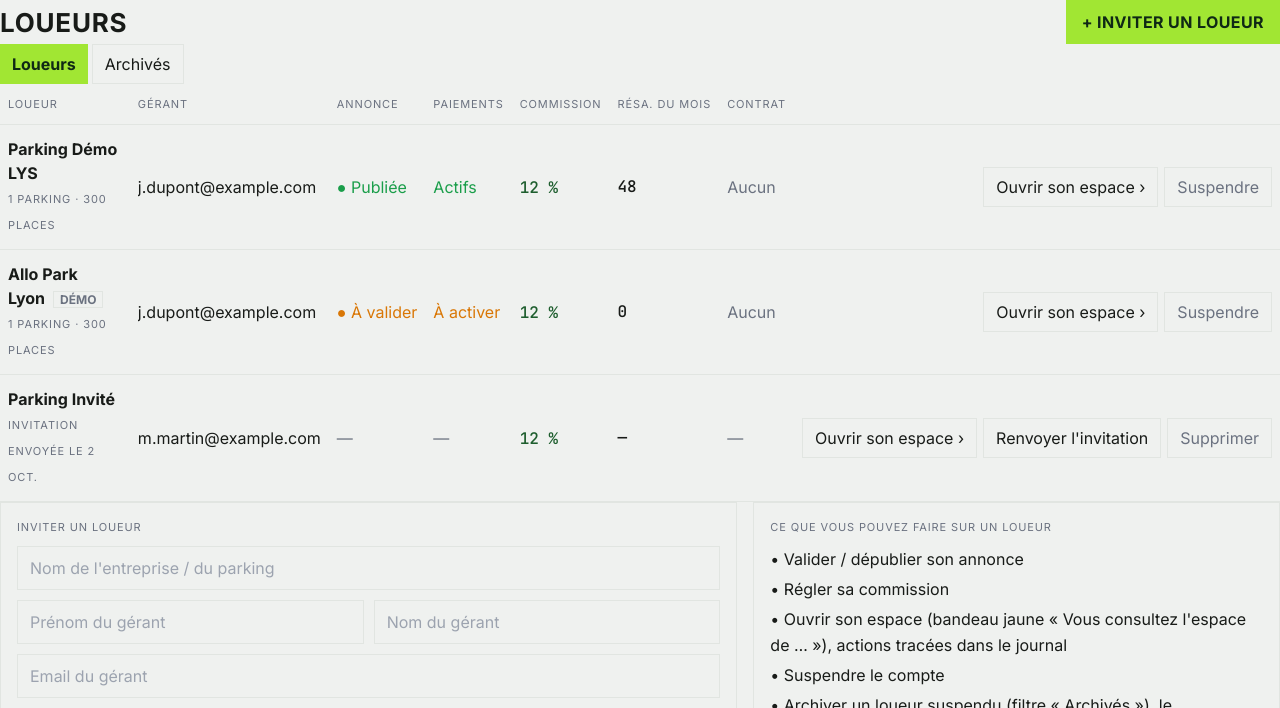
it: Loueurs › affiche sous le nom du gérant le refus du serveur
This screenshot has width=1280, height=708.
Expected: the text "Parking Démo LYS" is shown, [8,139,117,183]
Type "Nouveau" into the field with placeholder "Nom de l'entreprise / du parking" at (369, 568), box [17,546,720,590]
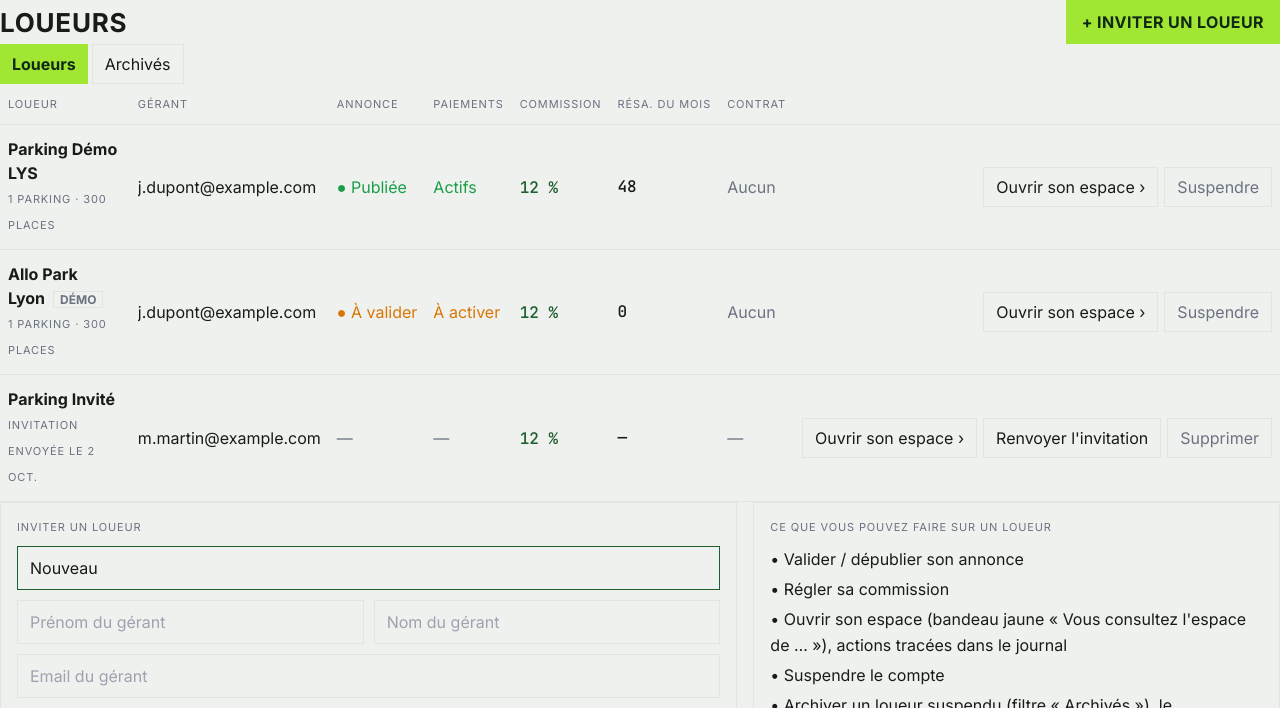
Type "Lucie" into the field labelled "Prénom du gérant" at (190, 622), box [17,600,364,644]
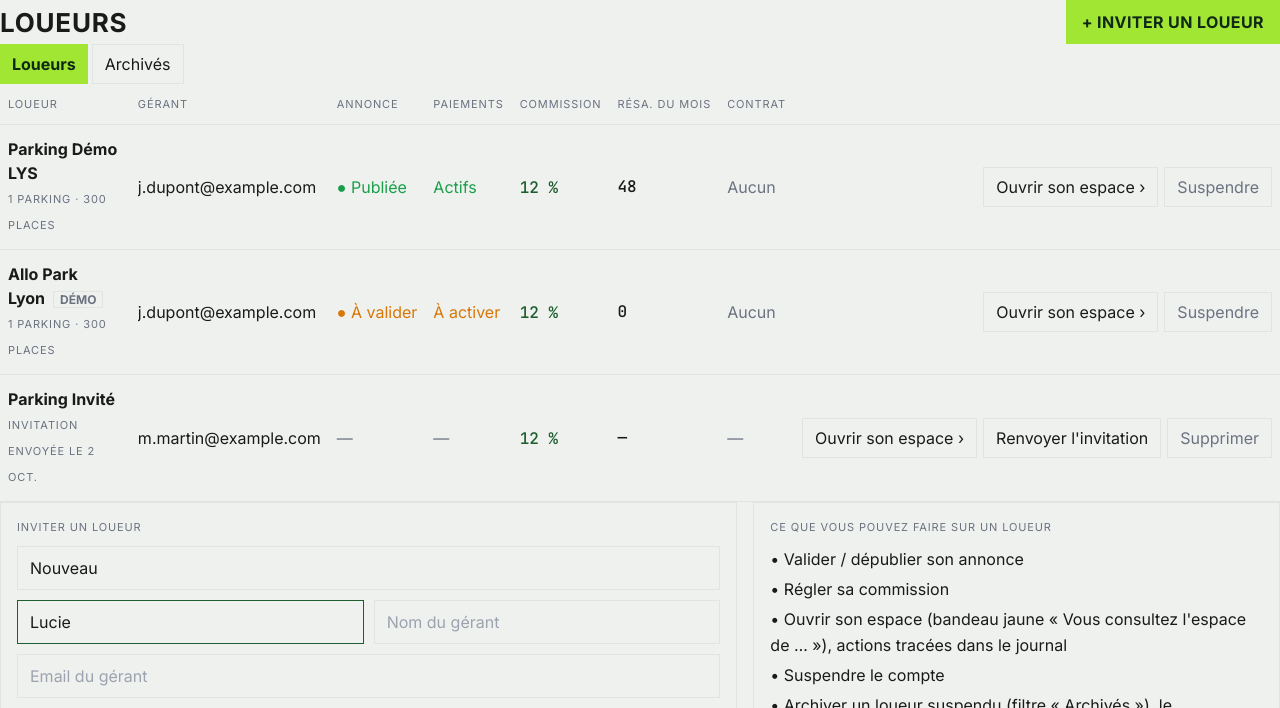
Type "Martin2" into the field labelled "Nom du gérant" at (547, 622), box [374,600,720,644]
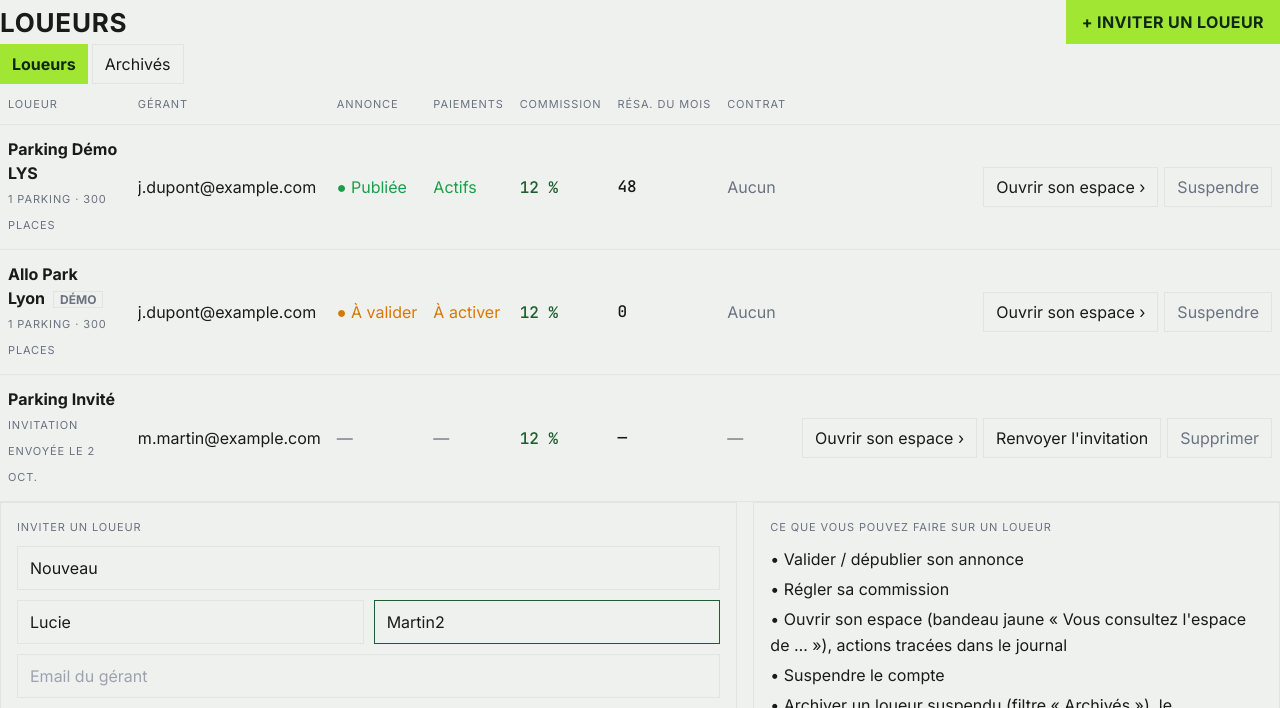
Type "nouveau@example.com" into the field labelled "Email du gérant" at (369, 676), box [17,654,720,698]
(page scrolled)
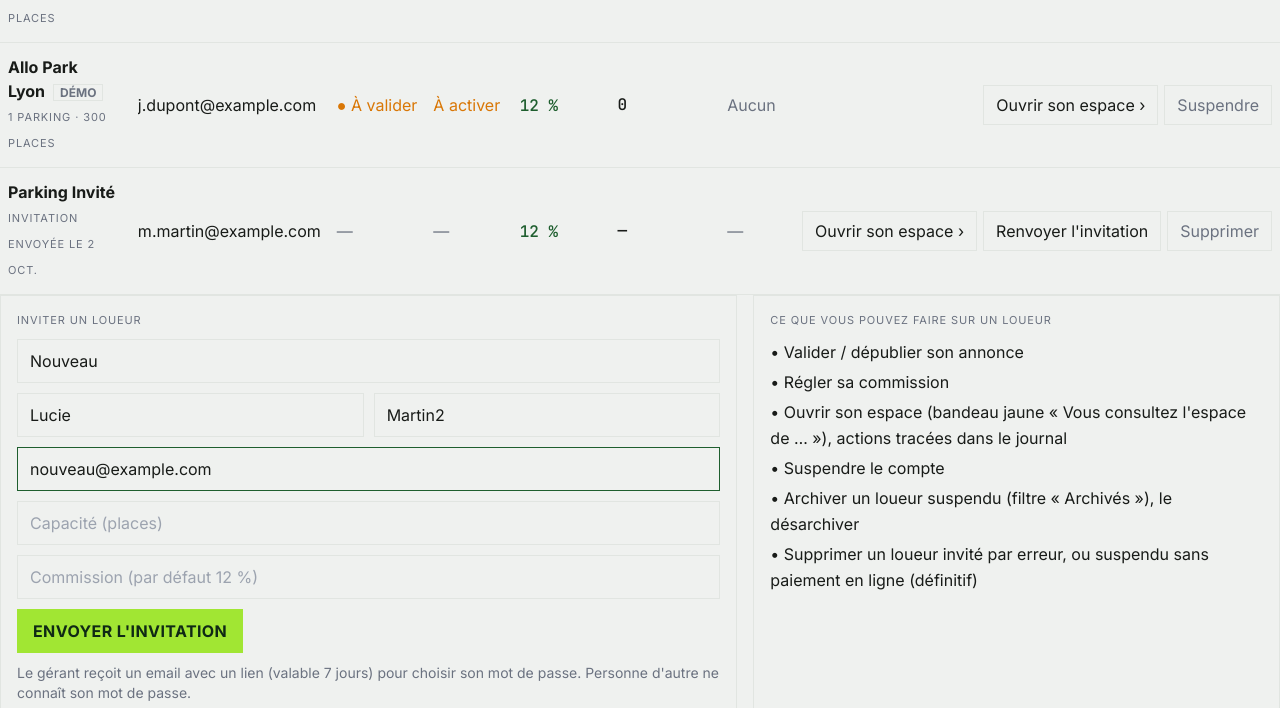
Type "150" into the field labelled "Capacité (places)" at (369, 522), box [17,500,720,544]
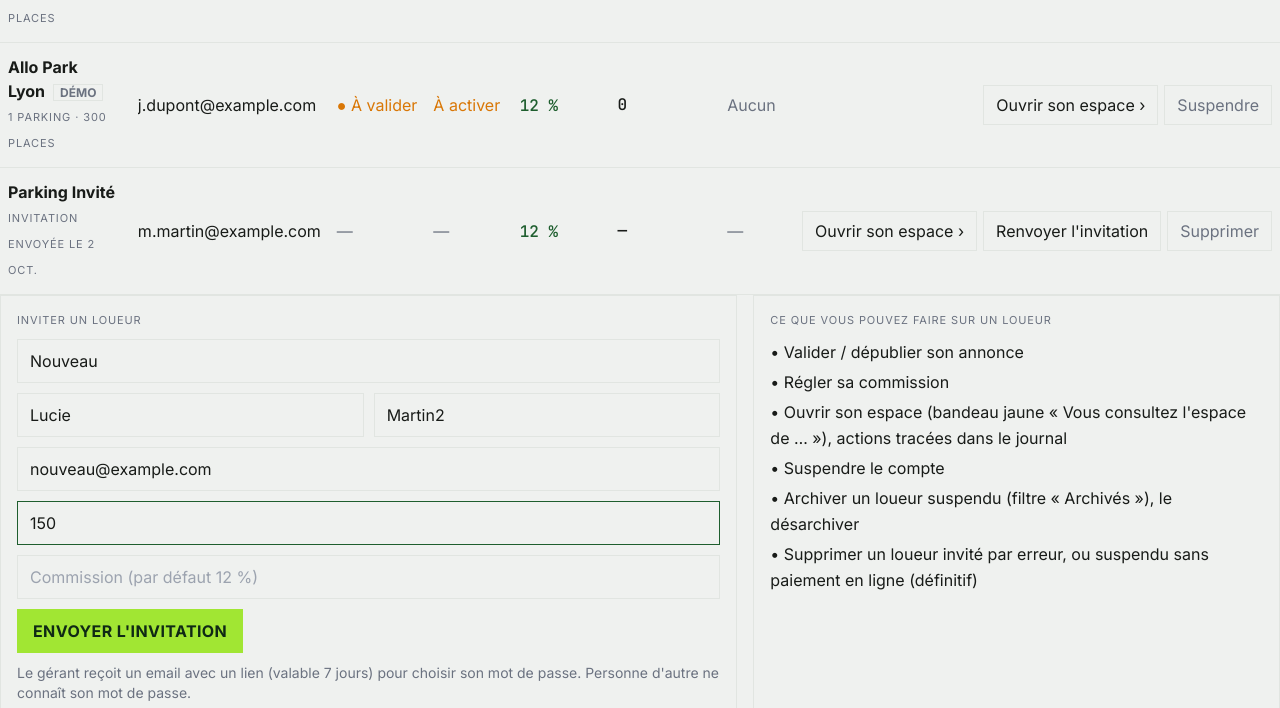
Click the button "Envoyer l'invitation" at (130, 630), box [17,608,243,652]
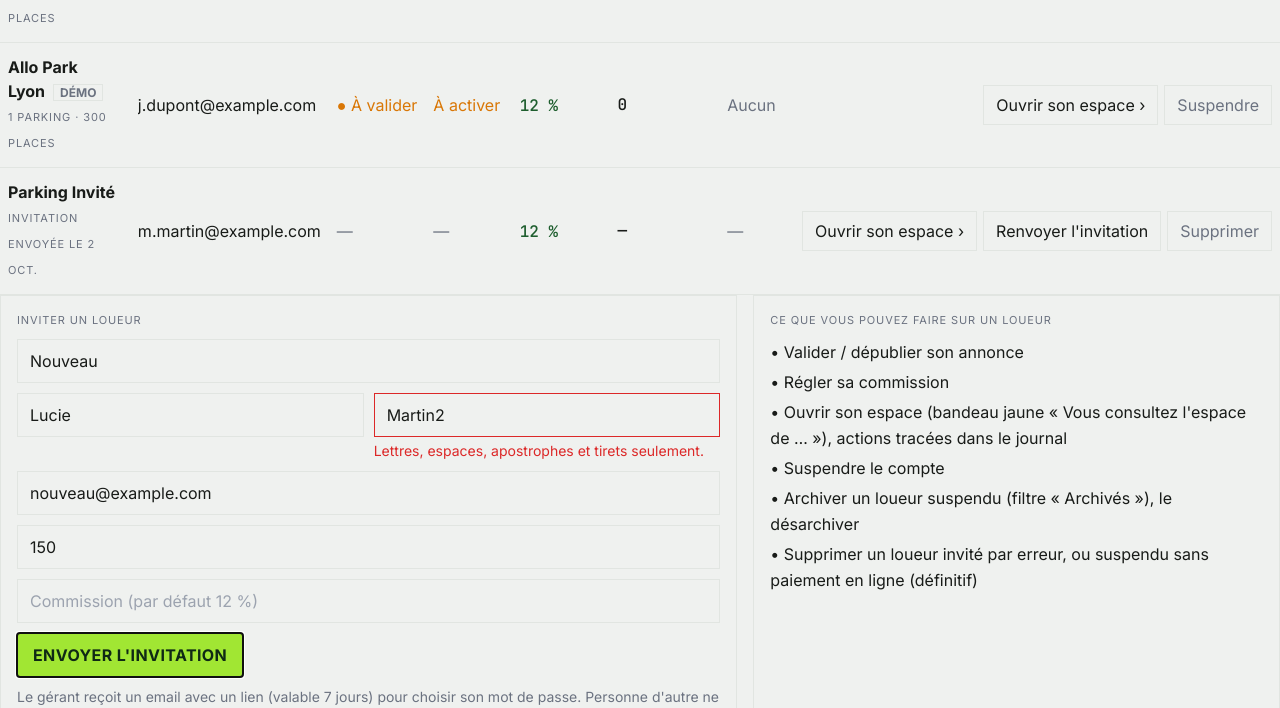
Expected: the text "Lettres, espaces, apostrophes et tirets seulement." is shown, [374,440,720,460]
